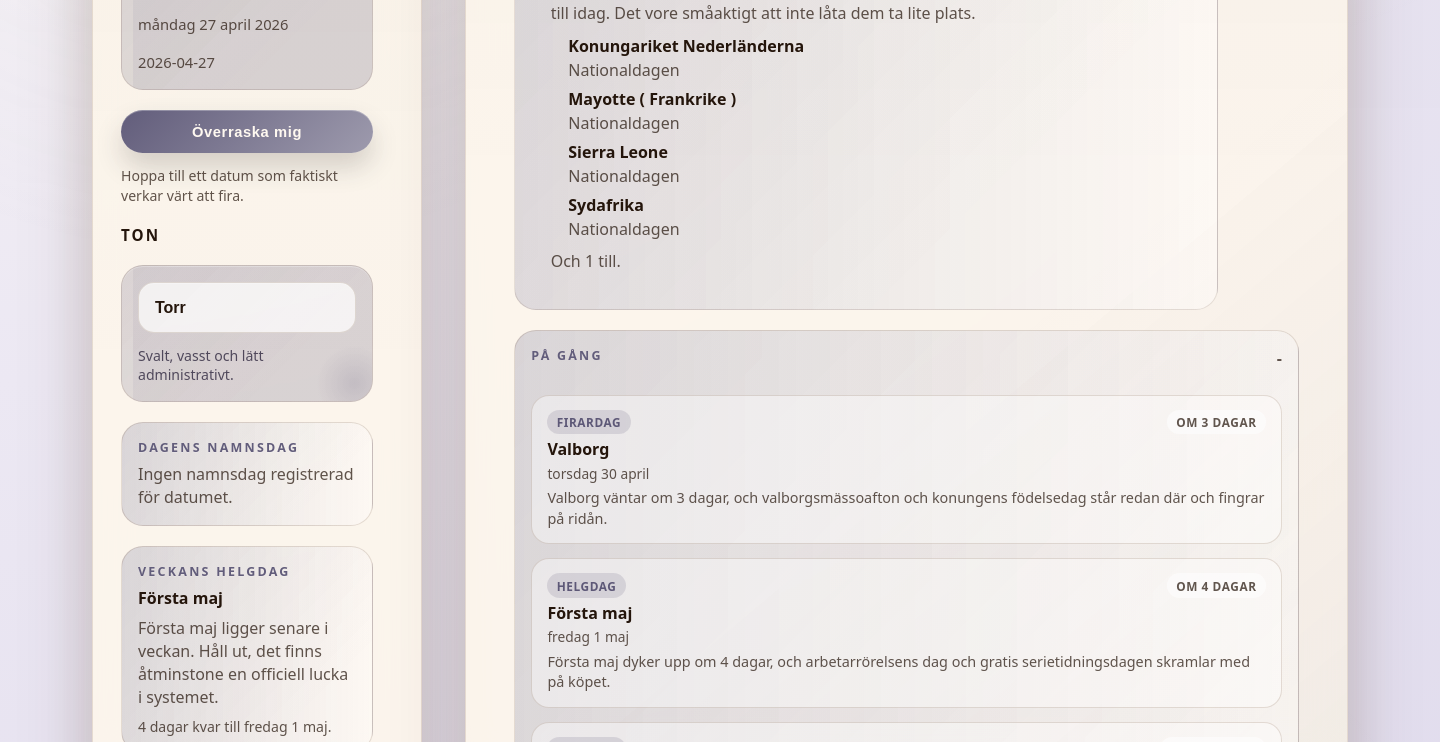
Test: allows collapsing the upcoming panel
This screenshot has width=1440, height=742.
(page scrolled)
Expected: the text "Valborg" is shown, [547,438,609,460]
Click the button "På gång -" at x=567, y=355, box [515,330,1298,382]
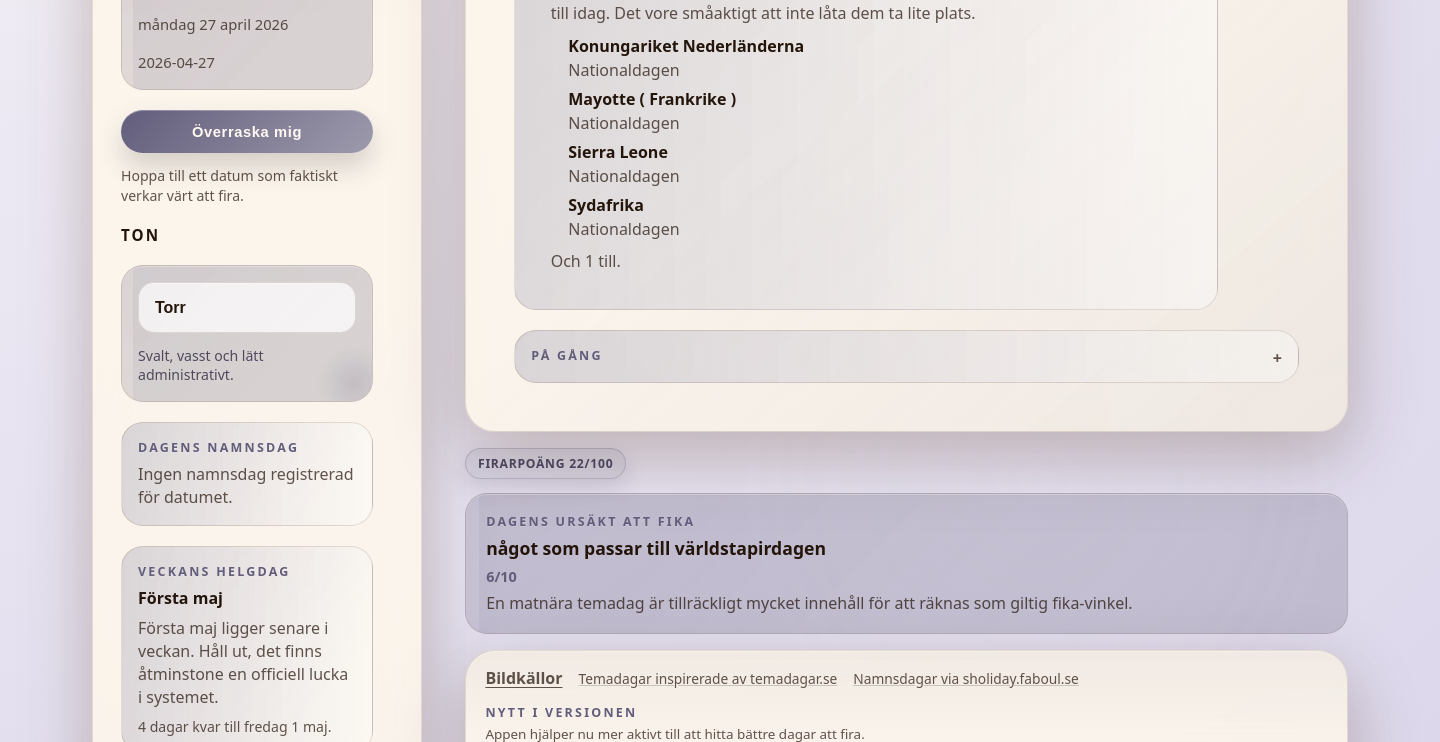
Expected: the text "Valborg" is gone
Click the button "På gång +" at x=567, y=355, box [515,330,1298,382]
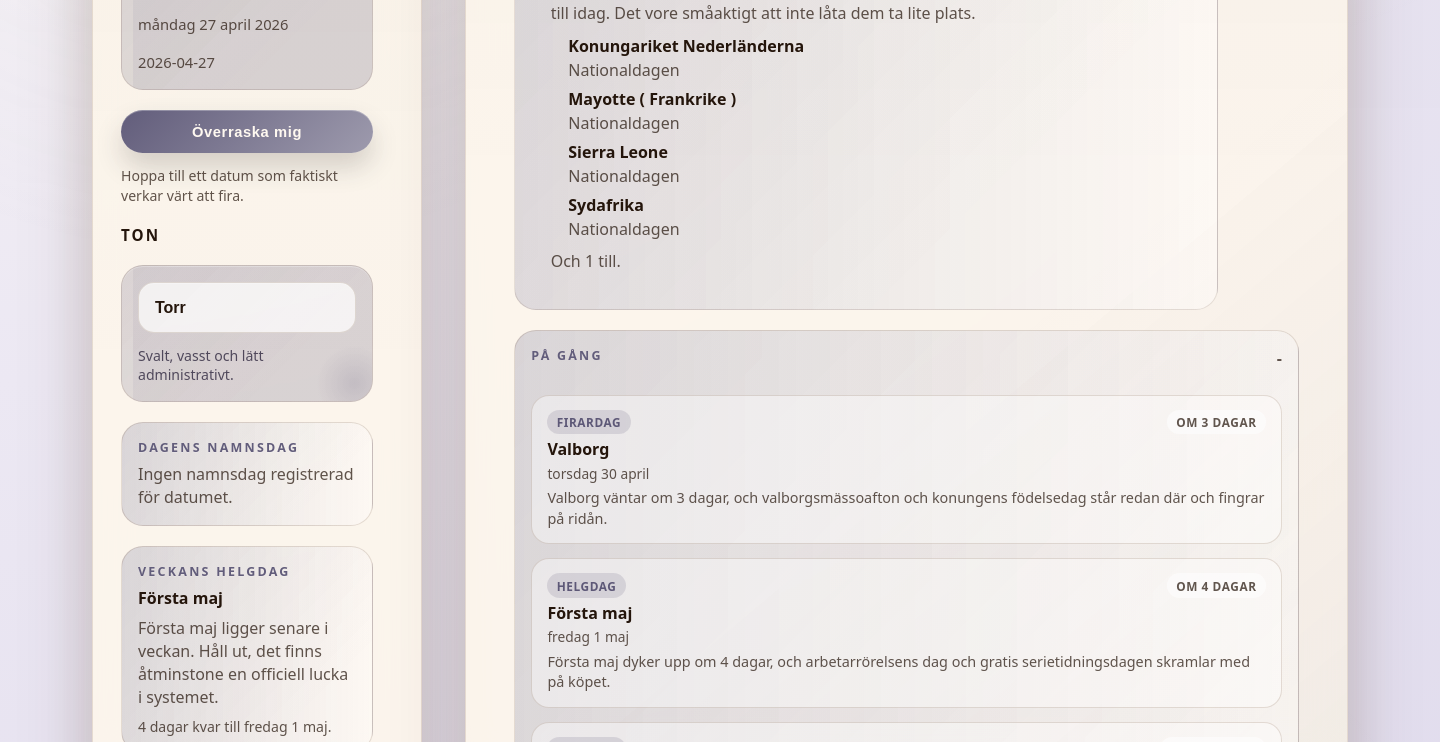
Expected: the text "Valborg" is shown, [547,438,609,460]
